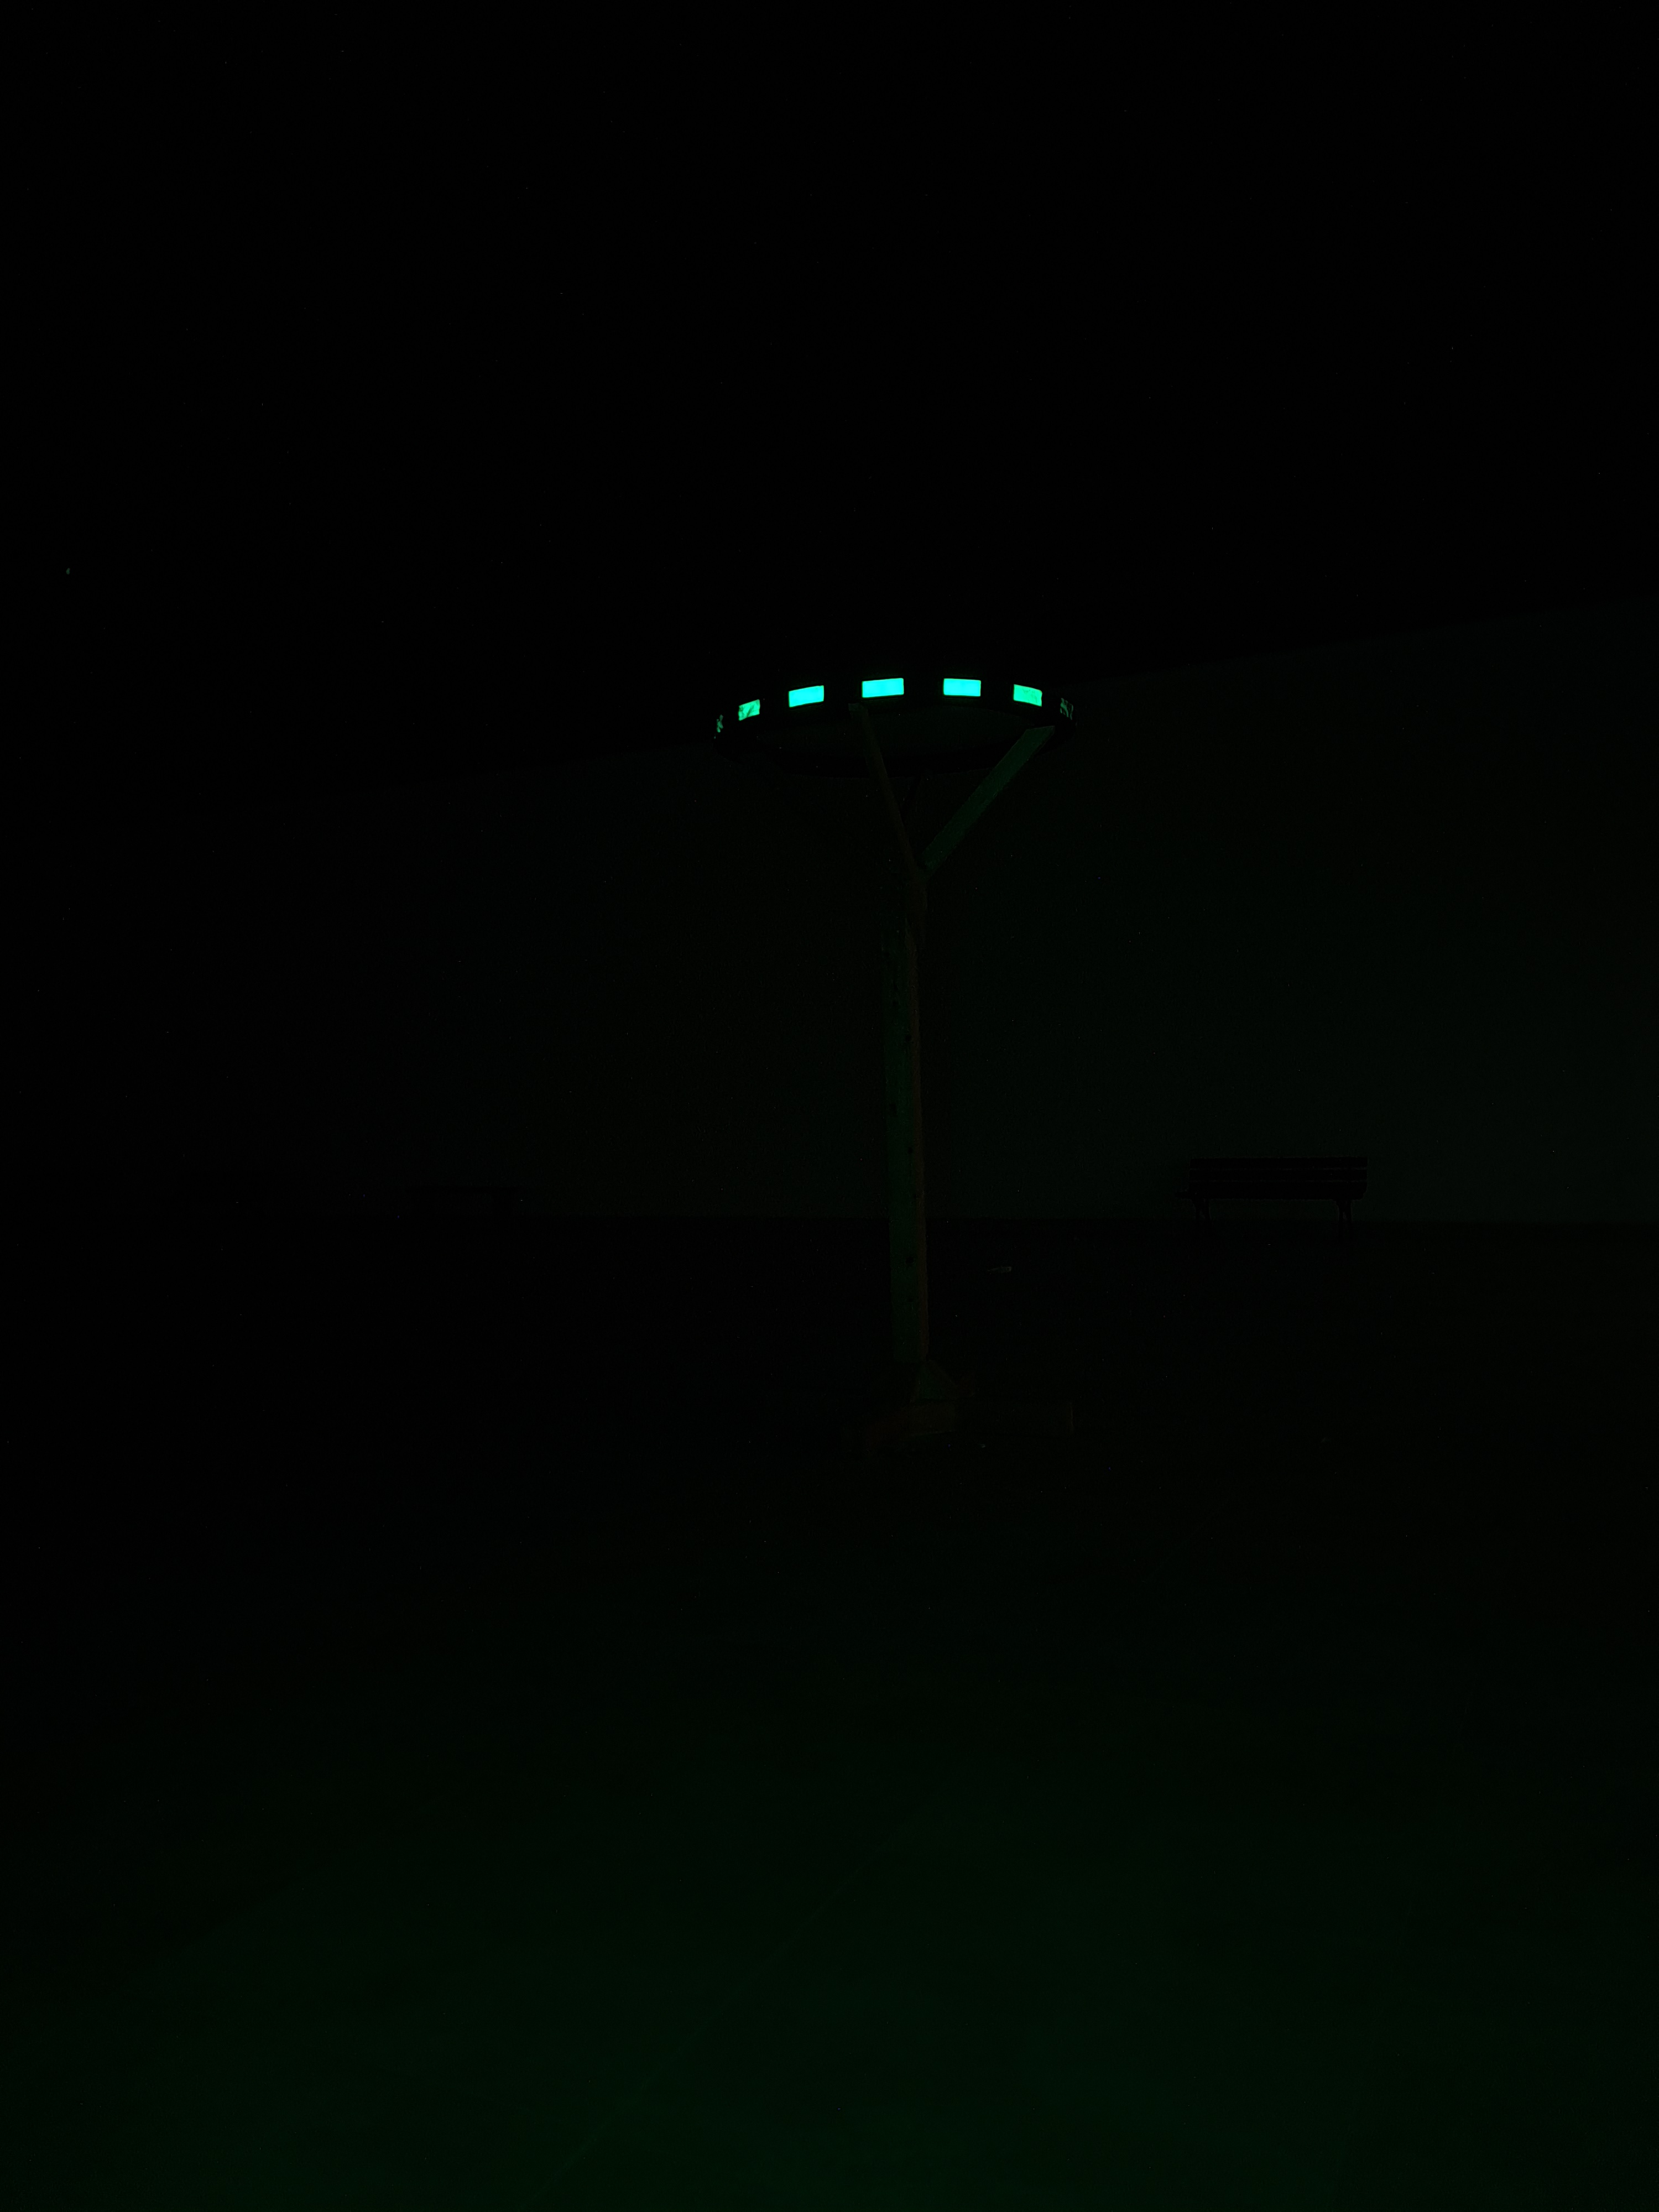hoop: (709, 674, 1073, 737)
